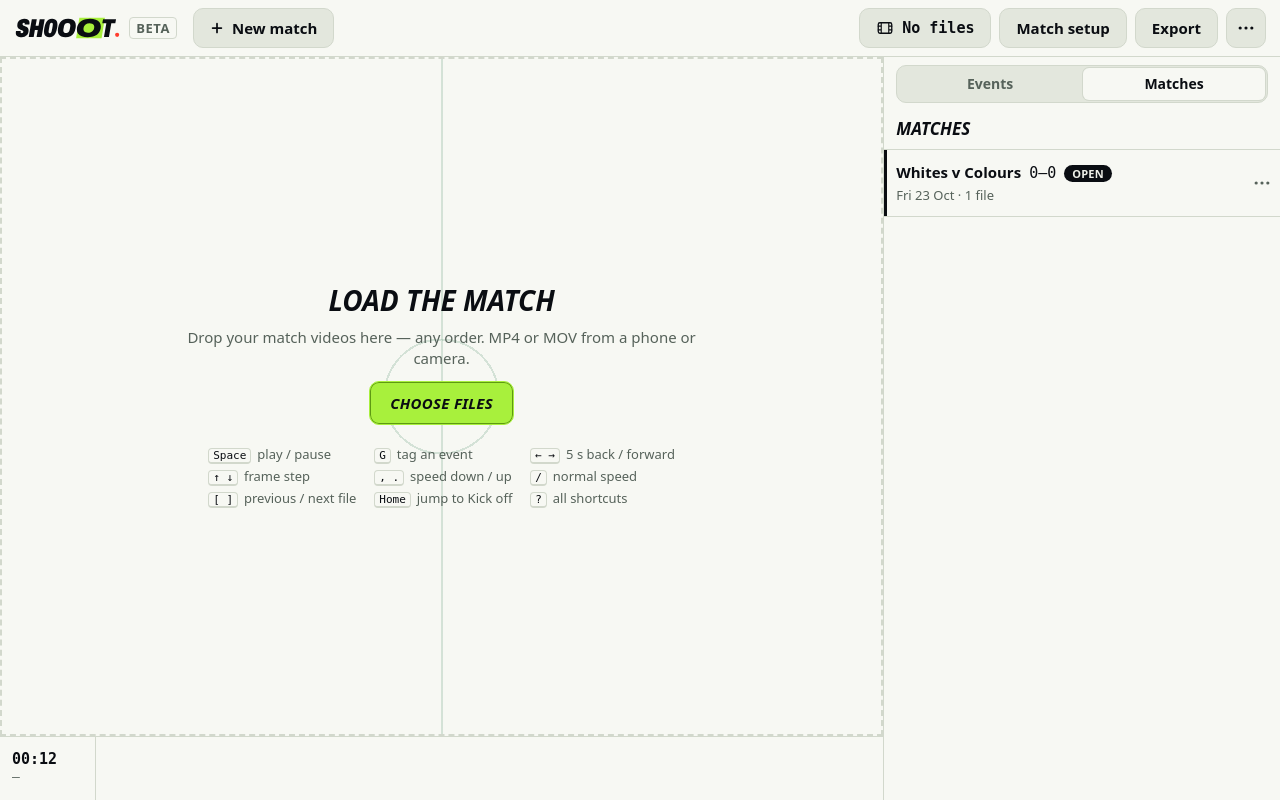
Test: AppShell › should show the drop zone and an empty log before any file is loaded (the rail opens on Matches)
Click the tab "Events". click: (990, 84)
box: [899,68,1081,100]
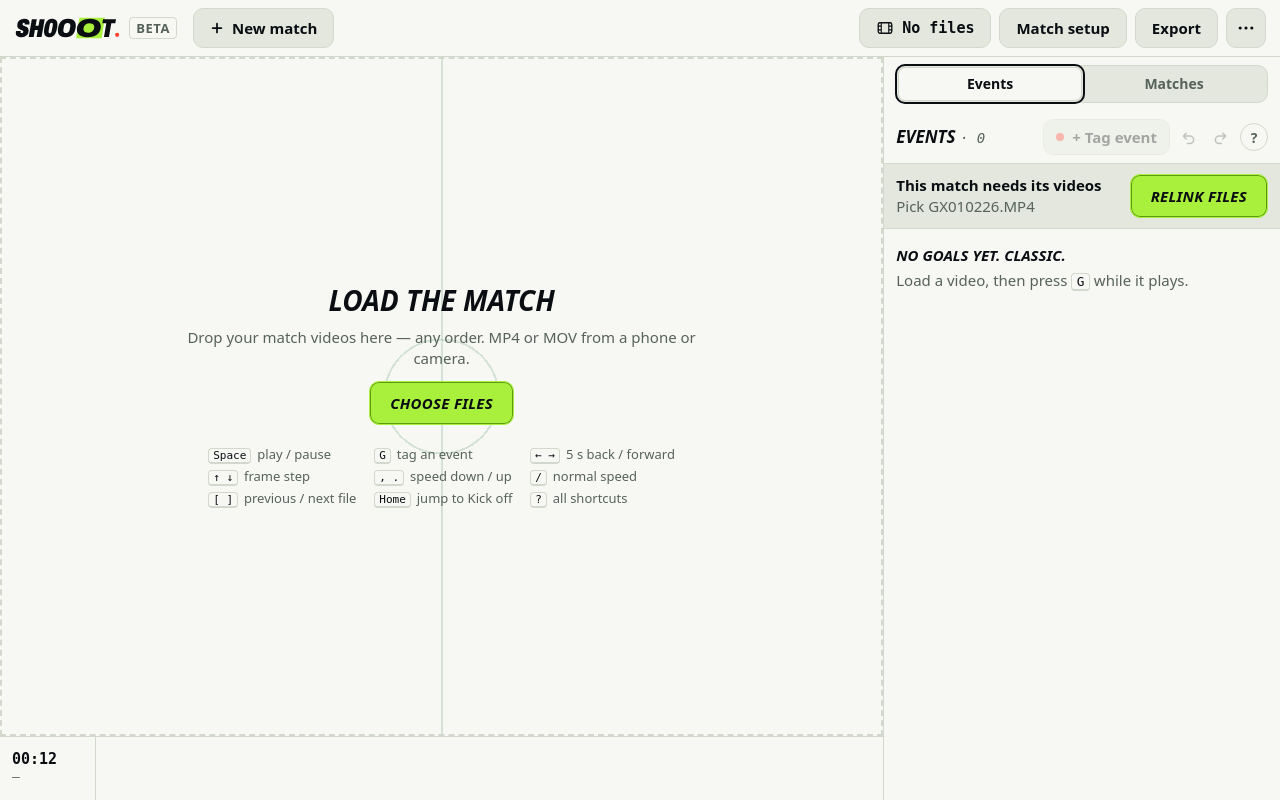
Expected: the text "No goals yet. Classic." is shown, [896,245,1066,265]
